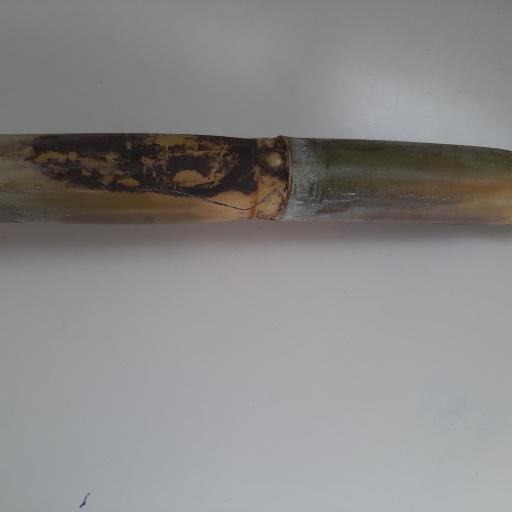Bud: (260, 148, 284, 169)
